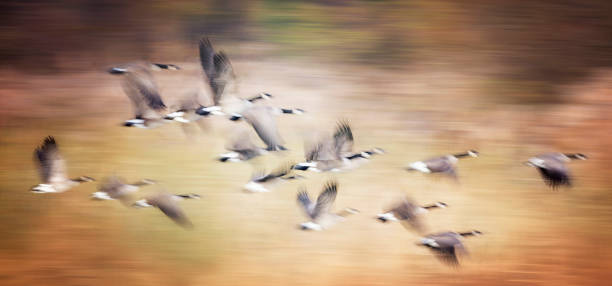goose: (201, 37, 276, 120), (100, 59, 182, 117), (25, 136, 95, 196), (314, 119, 388, 175), (292, 180, 361, 234), (225, 105, 307, 150), (125, 93, 210, 135), (127, 190, 207, 231), (407, 228, 488, 267), (517, 149, 590, 191), (376, 194, 451, 233), (247, 157, 314, 195), (405, 148, 481, 181), (88, 173, 158, 204), (218, 138, 288, 166)
